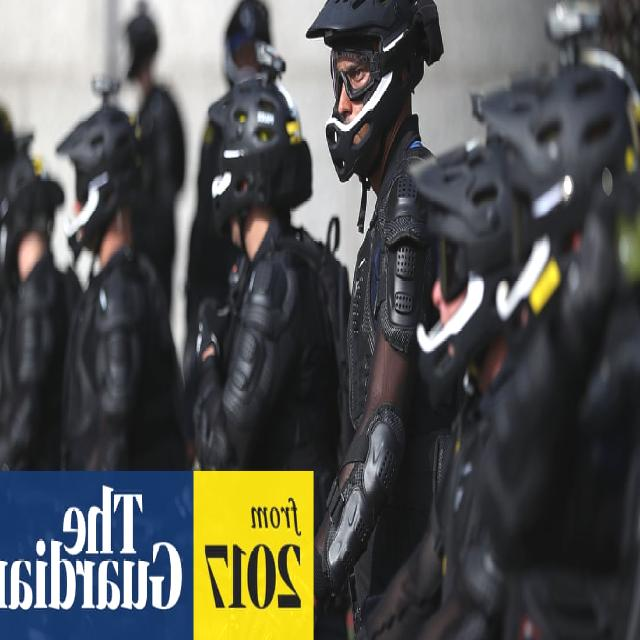police: (308, 0, 449, 640), (184, 14, 338, 486), (54, 67, 184, 465)
